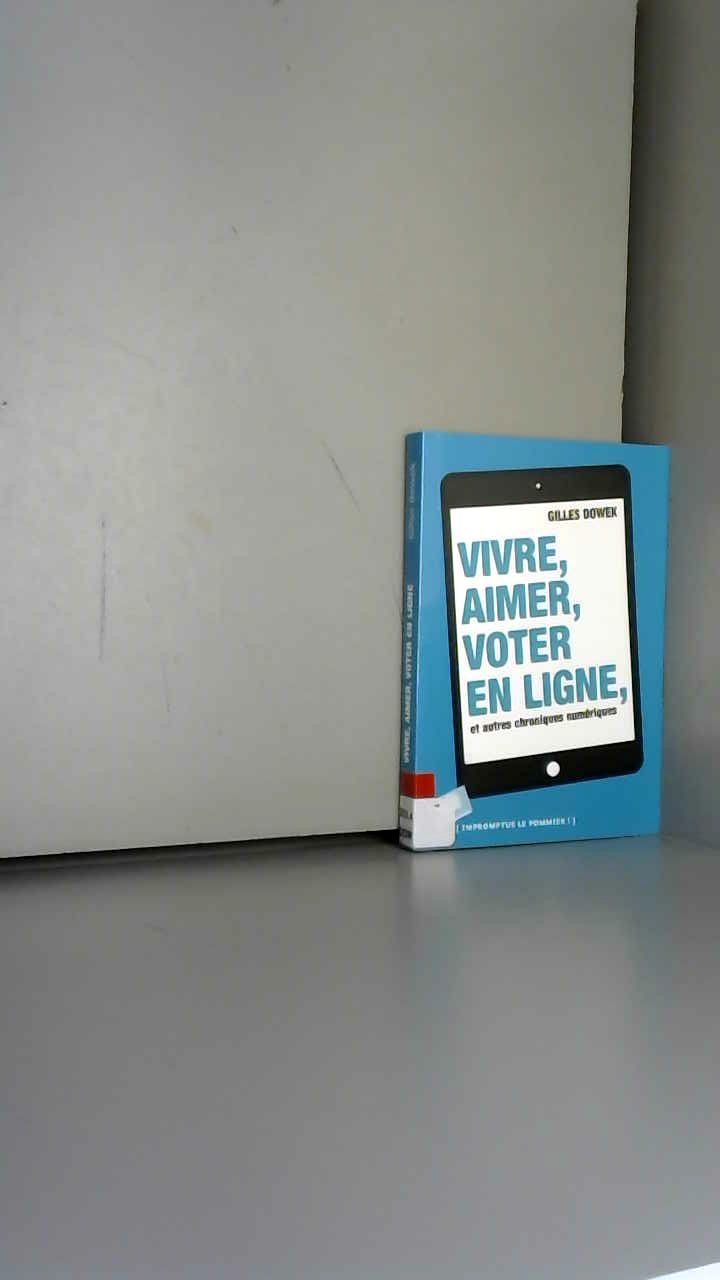book: (370, 400, 718, 870)
